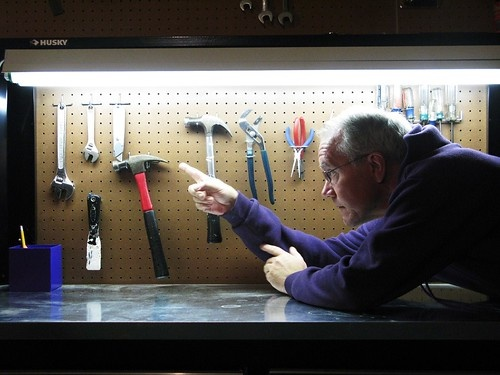hammer: (111, 153, 172, 278), (185, 114, 232, 245)
